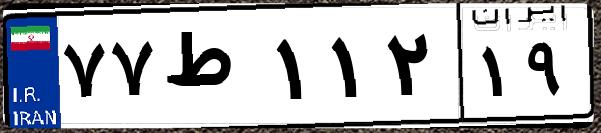1: (270, 28, 330, 110), (330, 28, 385, 110), (475, 38, 525, 113)
2: (385, 28, 445, 110)
7: (57, 26, 110, 100), (110, 28, 158, 98)
9: (525, 38, 570, 115)
ط: (158, 20, 270, 120)
